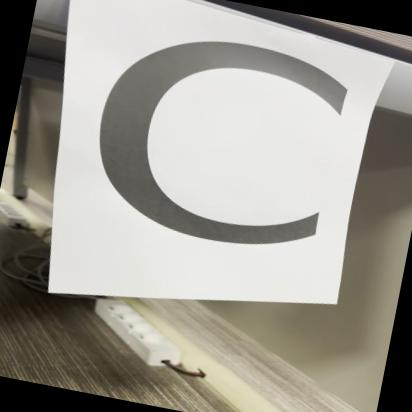seat: (50, 0, 377, 306)
